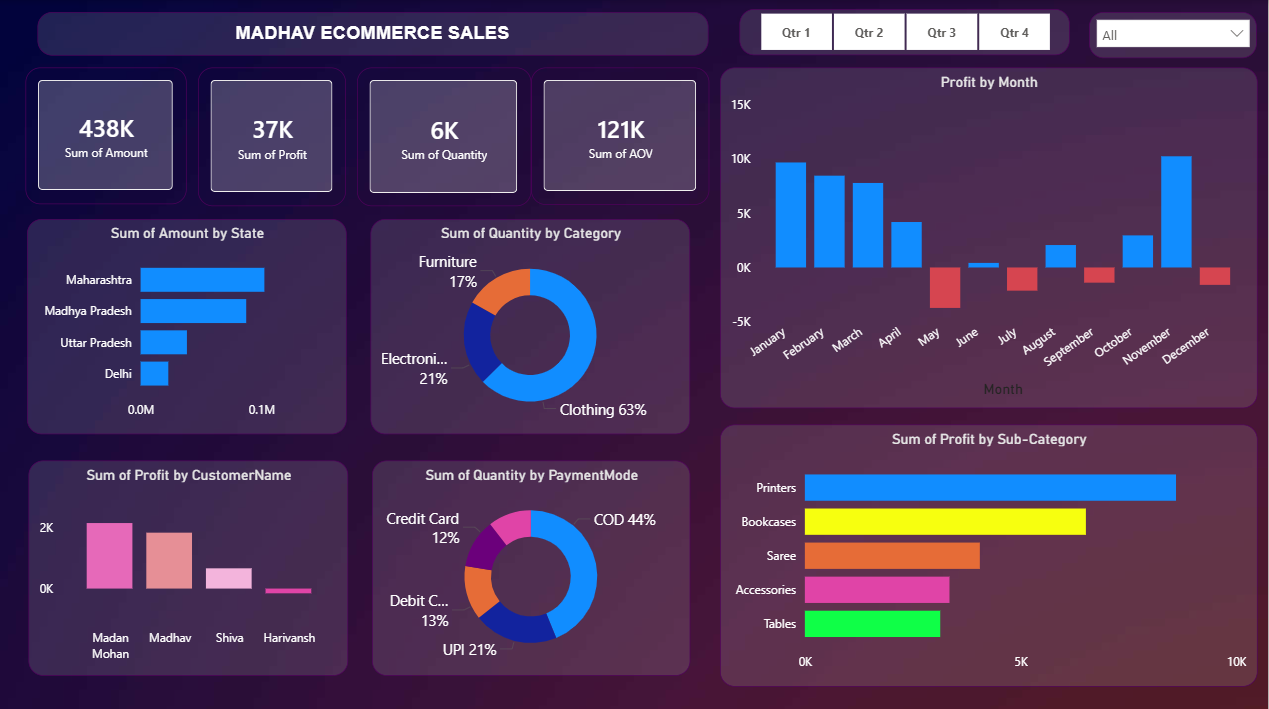

The dashboard page shown, as its layout file describes it:
{"tool":"powerbi","page":{"name":"Page 1","canvas":[1280,720],"ordinal":0},"visuals":[{"type":"textbox","box":[38.6,12.9,677.1,44.3],"z":0},{"type":"columnChart","title":"Profit by Month","fields":{"Category":["Orders.Order Date.Variation.Date Hierarchy.Month"],"Y":["Sum(Details.Profit)"]},"box":[727.6,68,542.4,343.9],"z":1000},{"type":"barChart","fields":{"Category":["Details.Sub-Category"],"Y":["Sum(Details.Profit)"]},"box":[727.6,429,542.4,264.6],"z":2000},{"type":"donutChart","fields":{"Category":["Details.Category"],"Y":["Sum(Details.Quantity)"]},"box":[374.3,221.4,322.9,217.1],"z":3000},{"type":"donutChart","fields":{"Y":["Sum(Details.Quantity)"],"Category":["Details.PaymentMode"]},"box":[375.7,464.3,321.4,217.1],"z":4000},{"type":"cardVisual","fields":{"Data":["Sum(Details.Amount)"]},"box":[26.5,68,162.5,138],"z":5000},{"type":"cardVisual","fields":{"Data":["Sum(Details.Profit)"]},"box":[200.3,68,149.3,139.8],"z":6000},{"type":"cardVisual","fields":{"Data":["Sum(Details.Quantity)"]},"box":[360,68.6,175.7,140],"z":7000},{"type":"cardVisual","fields":{"Data":["Sum(Details.AOV)"]},"box":[535.7,68.6,180,138.6],"z":8000},{"type":"barChart","fields":{"Category":["Orders.State"],"Y":["Sum(Details.Amount)"]},"box":[27.1,221.4,322.9,217.1],"z":9000},{"type":"columnChart","fields":{"Category":["Orders.CustomerName"],"Y":["Sum(Details.Profit)"]},"box":[28.6,464.3,322.9,217.1],"z":10000},{"type":"slicer","fields":{"Values":["Orders.Order Date.Variation.Date Hierarchy.Quarter"]},"box":[746.5,9.1,333.1,46.9],"z":11000},{"type":"slicer","fields":{"Values":["Orders.State"]},"box":[1099.3,12.1,169.6,46.9],"z":11001}]}

Visuals, with their boxes in screenshot pixels (x1, y1, x2, y2), scaled from the page's 1280x720 canvas onto the 1269x709 screenshot:
textbox: (left=38, top=13, right=710, bottom=56)
"Profit by Month" columnChart: (left=721, top=67, right=1259, bottom=406)
barChart - Details.Sub-Category x Sum(Details.Profit): (left=721, top=422, right=1259, bottom=683)
donutChart - Details.Category x Sum(Details.Quantity): (left=371, top=218, right=691, bottom=432)
donutChart - Sum(Details.Quantity) x Details.PaymentMode: (left=372, top=457, right=691, bottom=671)
cardVisual - Sum(Details.Amount): (left=26, top=67, right=187, bottom=203)
cardVisual - Sum(Details.Profit): (left=199, top=67, right=347, bottom=205)
cardVisual - Sum(Details.Quantity): (left=357, top=68, right=531, bottom=205)
cardVisual - Sum(Details.AOV): (left=531, top=68, right=710, bottom=204)
barChart - Orders.State x Sum(Details.Amount): (left=27, top=218, right=347, bottom=432)
columnChart - Orders.CustomerName x Sum(Details.Profit): (left=28, top=457, right=348, bottom=671)
slicer - Orders.Order Date.Variation.Date Hierarchy.Quarter: (left=740, top=9, right=1070, bottom=55)
slicer - Orders.State: (left=1090, top=12, right=1258, bottom=58)
